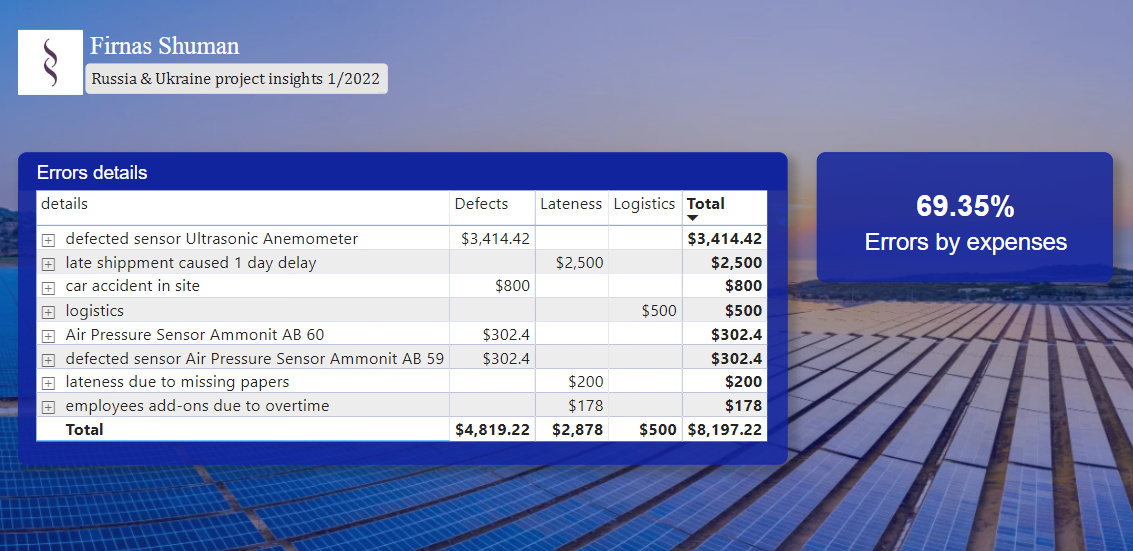

What the dashboard file says about the page in this screenshot:
{"tool":"powerbi","page":{"name":"Page 2","canvas":[1345,720],"ordinal":1},"visuals":[{"type":"image","box":[79.5,36.5,73.3,75.8],"z":1000},{"type":"textbox","title":"Firnas Shuman","box":[155.2,41.4,193.1,36.7],"z":2000},{"type":"textbox","title":"Russia & Ukraine project insights 1/2022","box":[155.2,77,342.3,34.2],"z":3000},{"type":"pivotTable","title":"Errors details","fields":{"Columns":["daily reports.category"],"Values":["daily reports.error_price"],"Rows":["daily reports.details","daily reports.Date"]},"box":[79.2,176.9,871.6,353.7],"z":4000},{"type":"card","title":"Expenses","fields":{"Values":["daily reports.% error costs"]},"box":[983.4,176.9,335.3,147.2],"z":4001}]}

Visuals, with their boxes on the page's 1345x720 design canvas (x1, y1, x2, y2). These are canvas units, not pixel positions in the 1133x551 screenshot, which may show the page scaled, cropped or inside an application window:
image: locate(80, 36, 153, 112)
"Firnas Shuman" textbox: locate(155, 41, 348, 78)
"Russia & Ukraine project insights 1/2022" textbox: locate(155, 77, 498, 111)
"Errors details" pivotTable: locate(79, 177, 951, 531)
"Expenses" card: locate(983, 177, 1319, 324)
